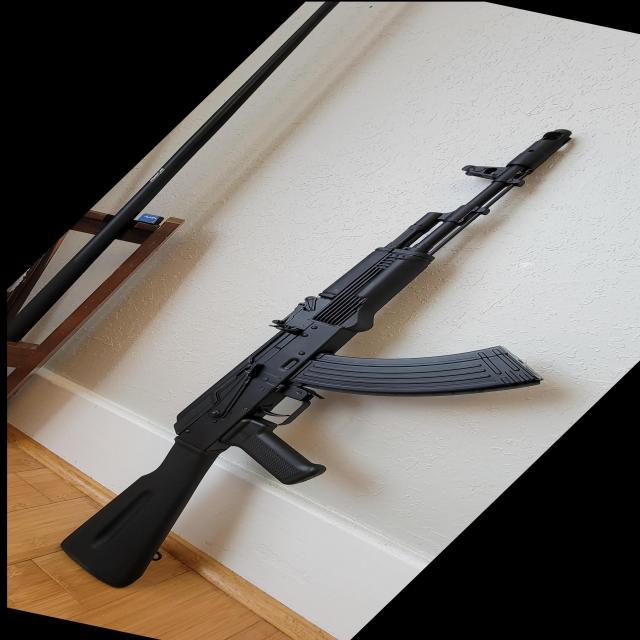weapon: (58, 130, 573, 588)
